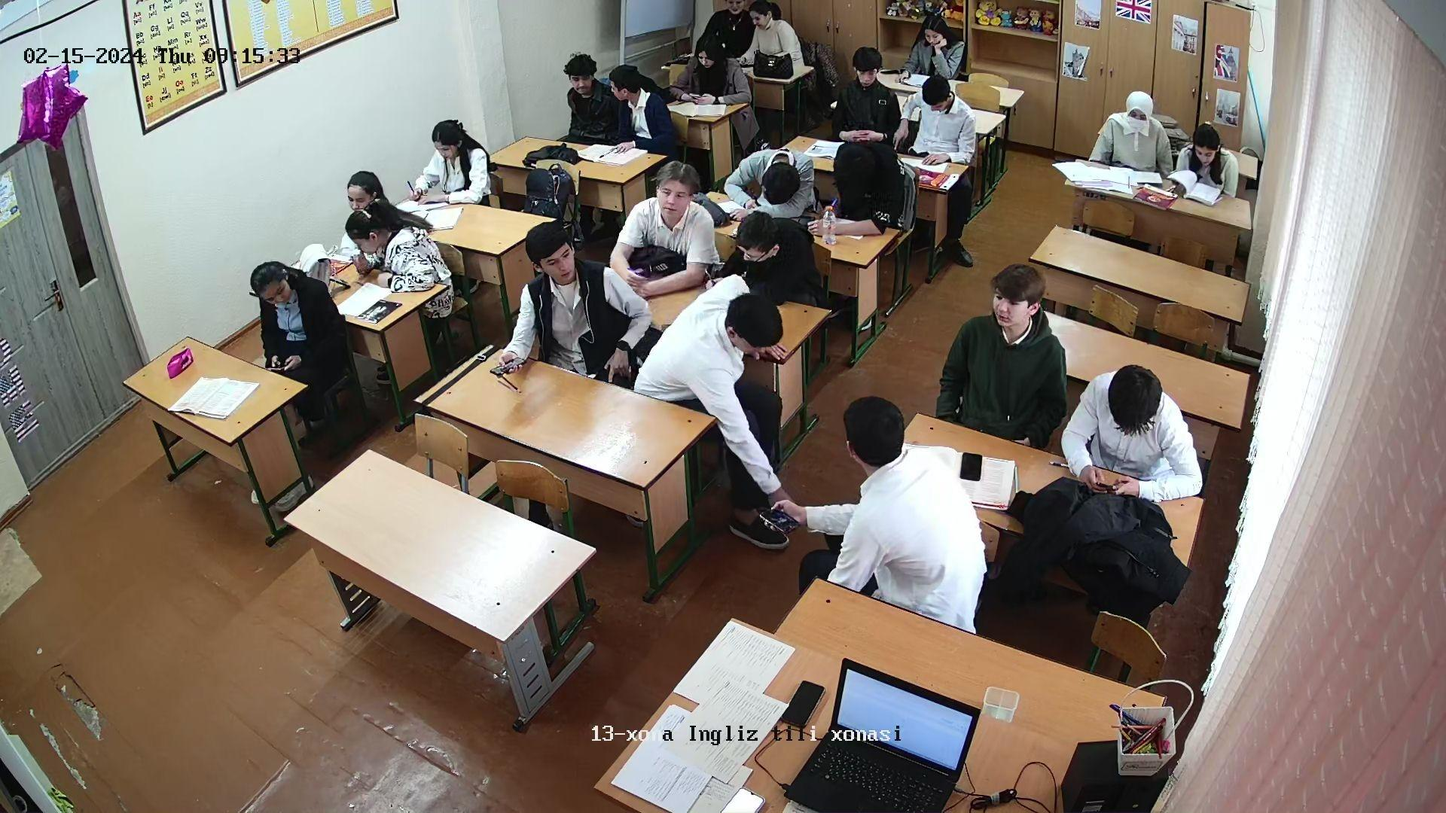Bend Over The Desk: (728, 142, 809, 218)
Look Around: (816, 399, 985, 610), (655, 288, 785, 429), (515, 217, 592, 295), (241, 247, 306, 336), (608, 66, 654, 111)
Normal: (1074, 339, 1229, 501), (407, 120, 493, 211), (1172, 119, 1237, 204)
phone: (487, 337, 539, 383), (845, 122, 876, 142), (682, 88, 713, 107)
